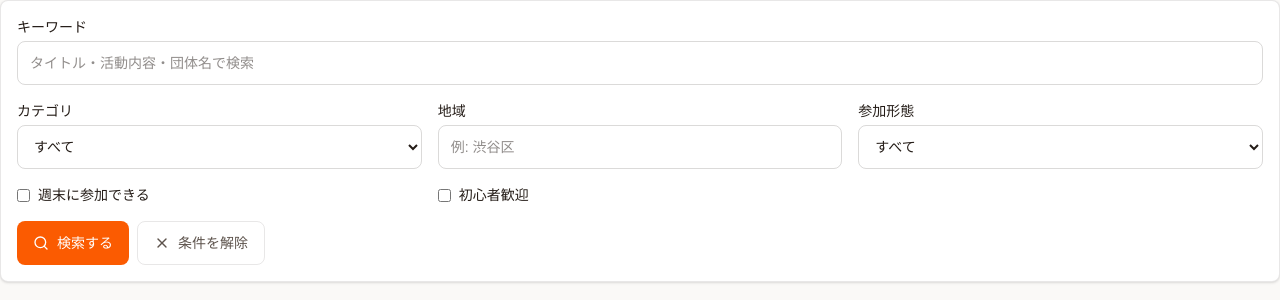
OpportunityFilters › 未送信の編集を条件なしの初期値へ戻す
In the field labelled "キーワード": (640, 63) [17, 41, 1263, 85], type "ゴミ"
Select "環境保全" in the dropdown labelled "カテゴリ": (219, 147) [17, 125, 422, 169]
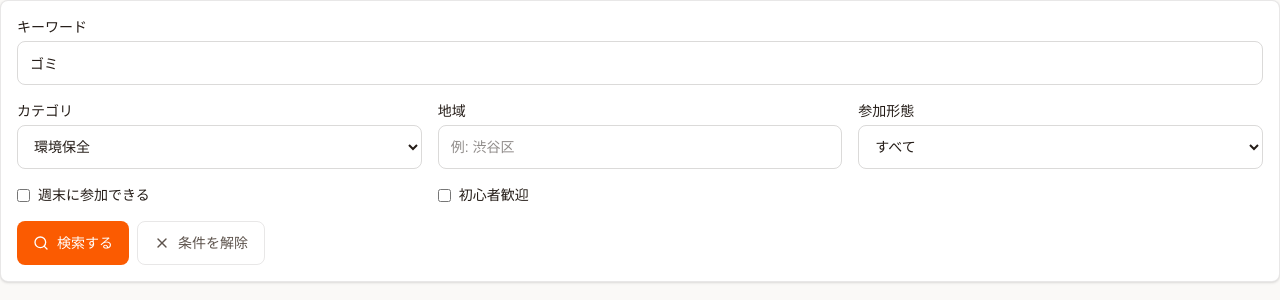
In the field labelled "地域": (640, 147) [438, 125, 842, 169], type "東京都"
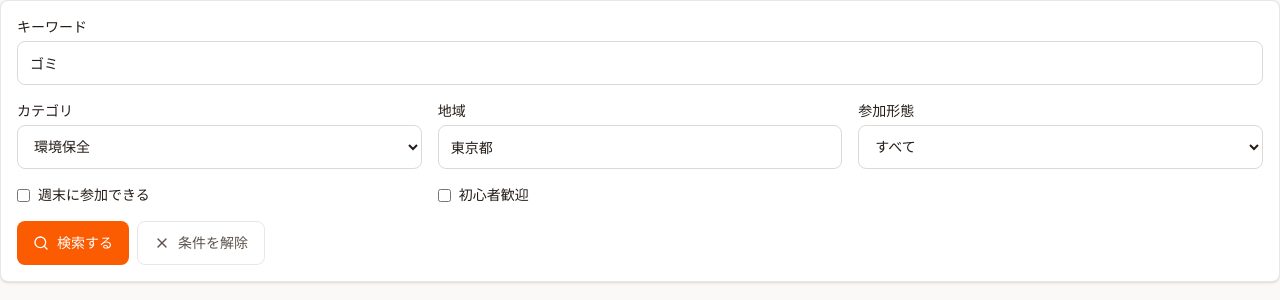
Select "ハイブリッド" in the dropdown labelled "参加形態": (1061, 147) [858, 125, 1263, 169]
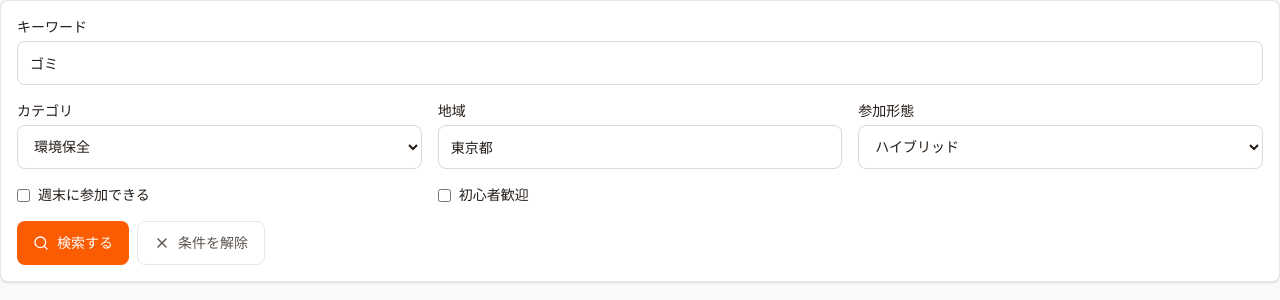
Click the checkbox labelled "週末に参加できる": (24, 195) [17, 188, 30, 202]
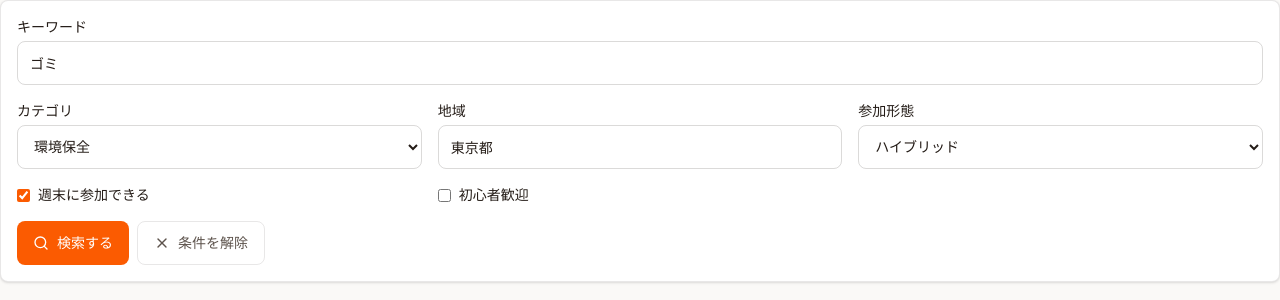
Click the checkbox labelled "初心者歓迎": (444, 195) [438, 188, 451, 202]
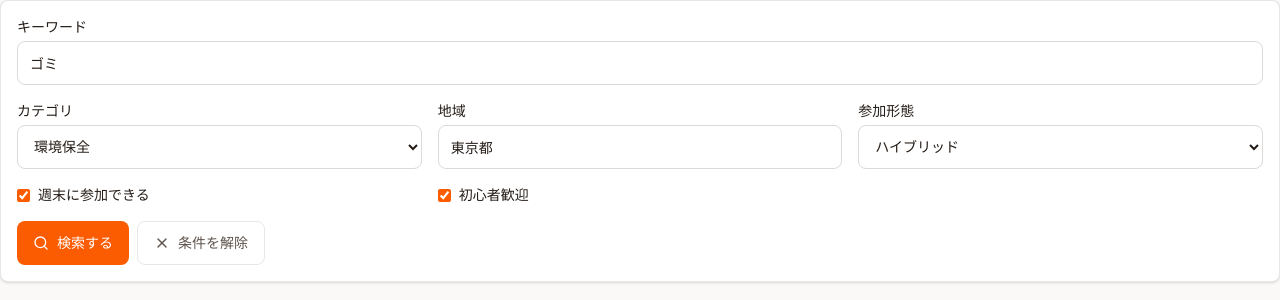
Click the link "条件を解除": (201, 243) [137, 221, 265, 265]
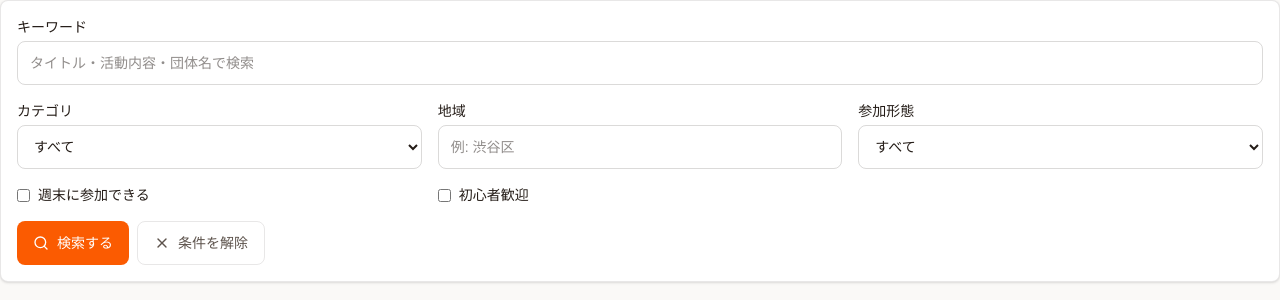
Now the checkbox labelled "週末に参加できる" is not checked, box [17, 188, 30, 202]
Now the field labelled "キーワード" is empty, box [17, 41, 1263, 85]
Now the field labelled "地域" is empty, box [438, 125, 842, 169]
